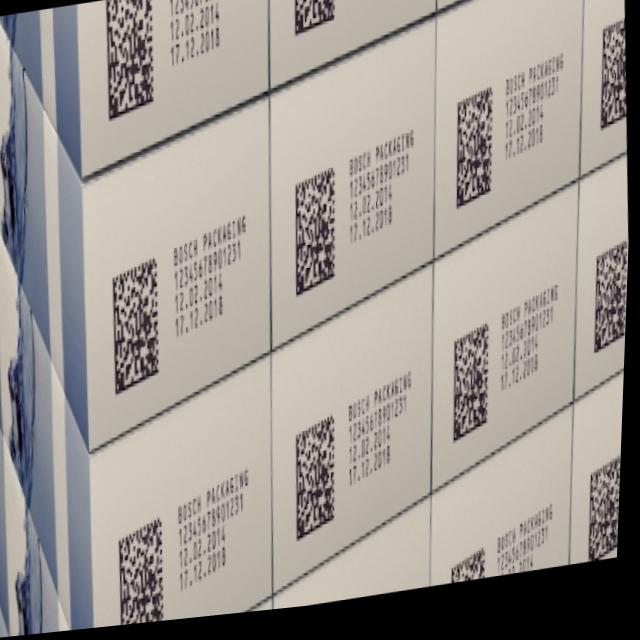datamatrix: (99, 1, 164, 141), (108, 260, 171, 404), (291, 406, 349, 562), (288, 159, 348, 309), (446, 319, 503, 455), (450, 83, 503, 227), (115, 512, 176, 630), (589, 243, 632, 380), (595, 19, 633, 148), (586, 462, 626, 577), (289, 1, 343, 55)
